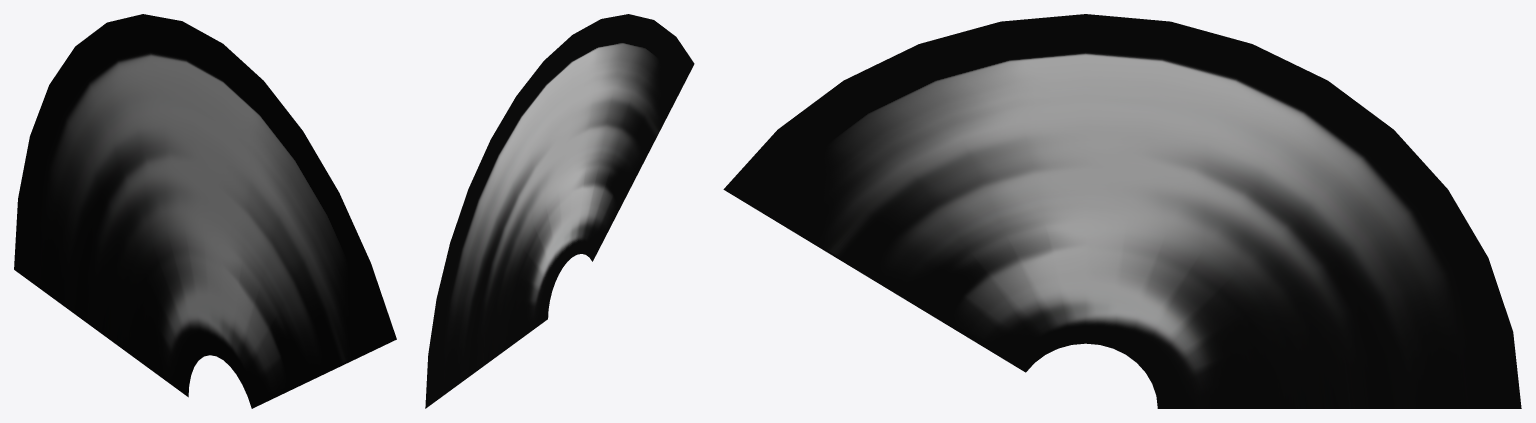
Rendered from woosh.fbx.
The picture shows the model from 3 angles, left to right: view 1: azimuth 30°, elevation 25°; view 2: azimuth 150°, elevation 25°; view 3: azimuth 270°, elevation 25°; orthographic projection. The views are drawn at different scales.
Visible parts, largest first — view 1: Woosh; view 2: Woosh; view 3: Woosh.
Part boxes in pixels (x1=…): Woosh: x1=14, y1=14, x2=396, y2=408; Woosh: x1=425, y1=14, x2=694, y2=408; Woosh: x1=723, y1=14, x2=1521, y2=408.
Bounding box in the file's own units: 1.31e-05 × 236 × 432.
